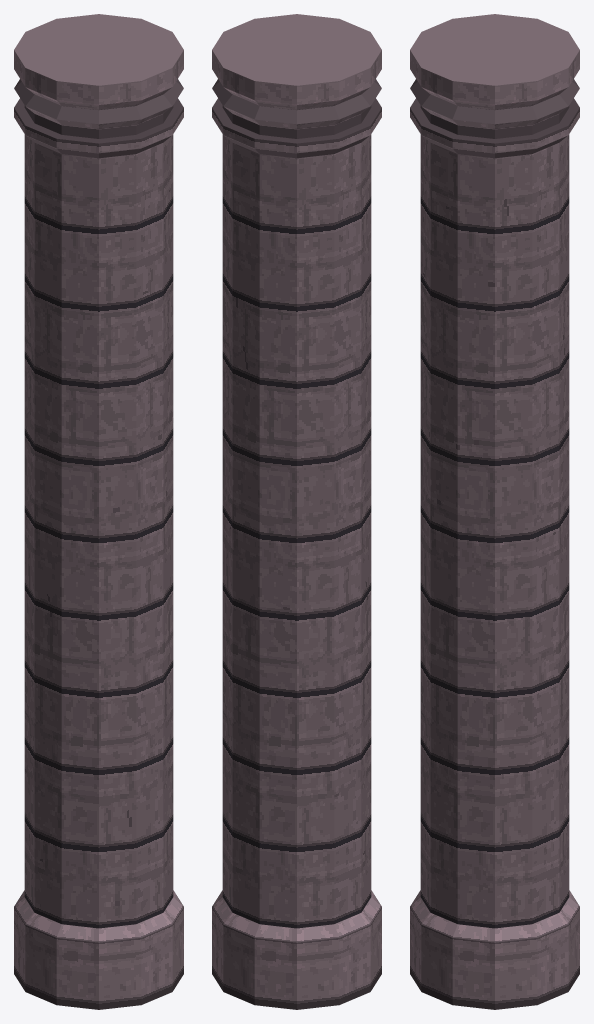
Rendered from saeule_12_b.glb.
3 renders of one model, left to right at view 1: azimuth 30°, elevation 25°; view 2: azimuth 150°, elevation 25°; view 3: azimuth 270°, elevation 25°, orthographic.
Visible parts, largest first — view 1: saeule_12; view 2: saeule_12; view 3: saeule_12.
Boxes of the visible parts, x1,y1,x2,y2 form: saeule_12: [14, 14, 183, 1009]; saeule_12: [212, 14, 381, 1009]; saeule_12: [410, 14, 579, 1009].
Bounding box in the file's own units: 1 × 6 × 1.
Materials: 1 (1 with a texture image).
